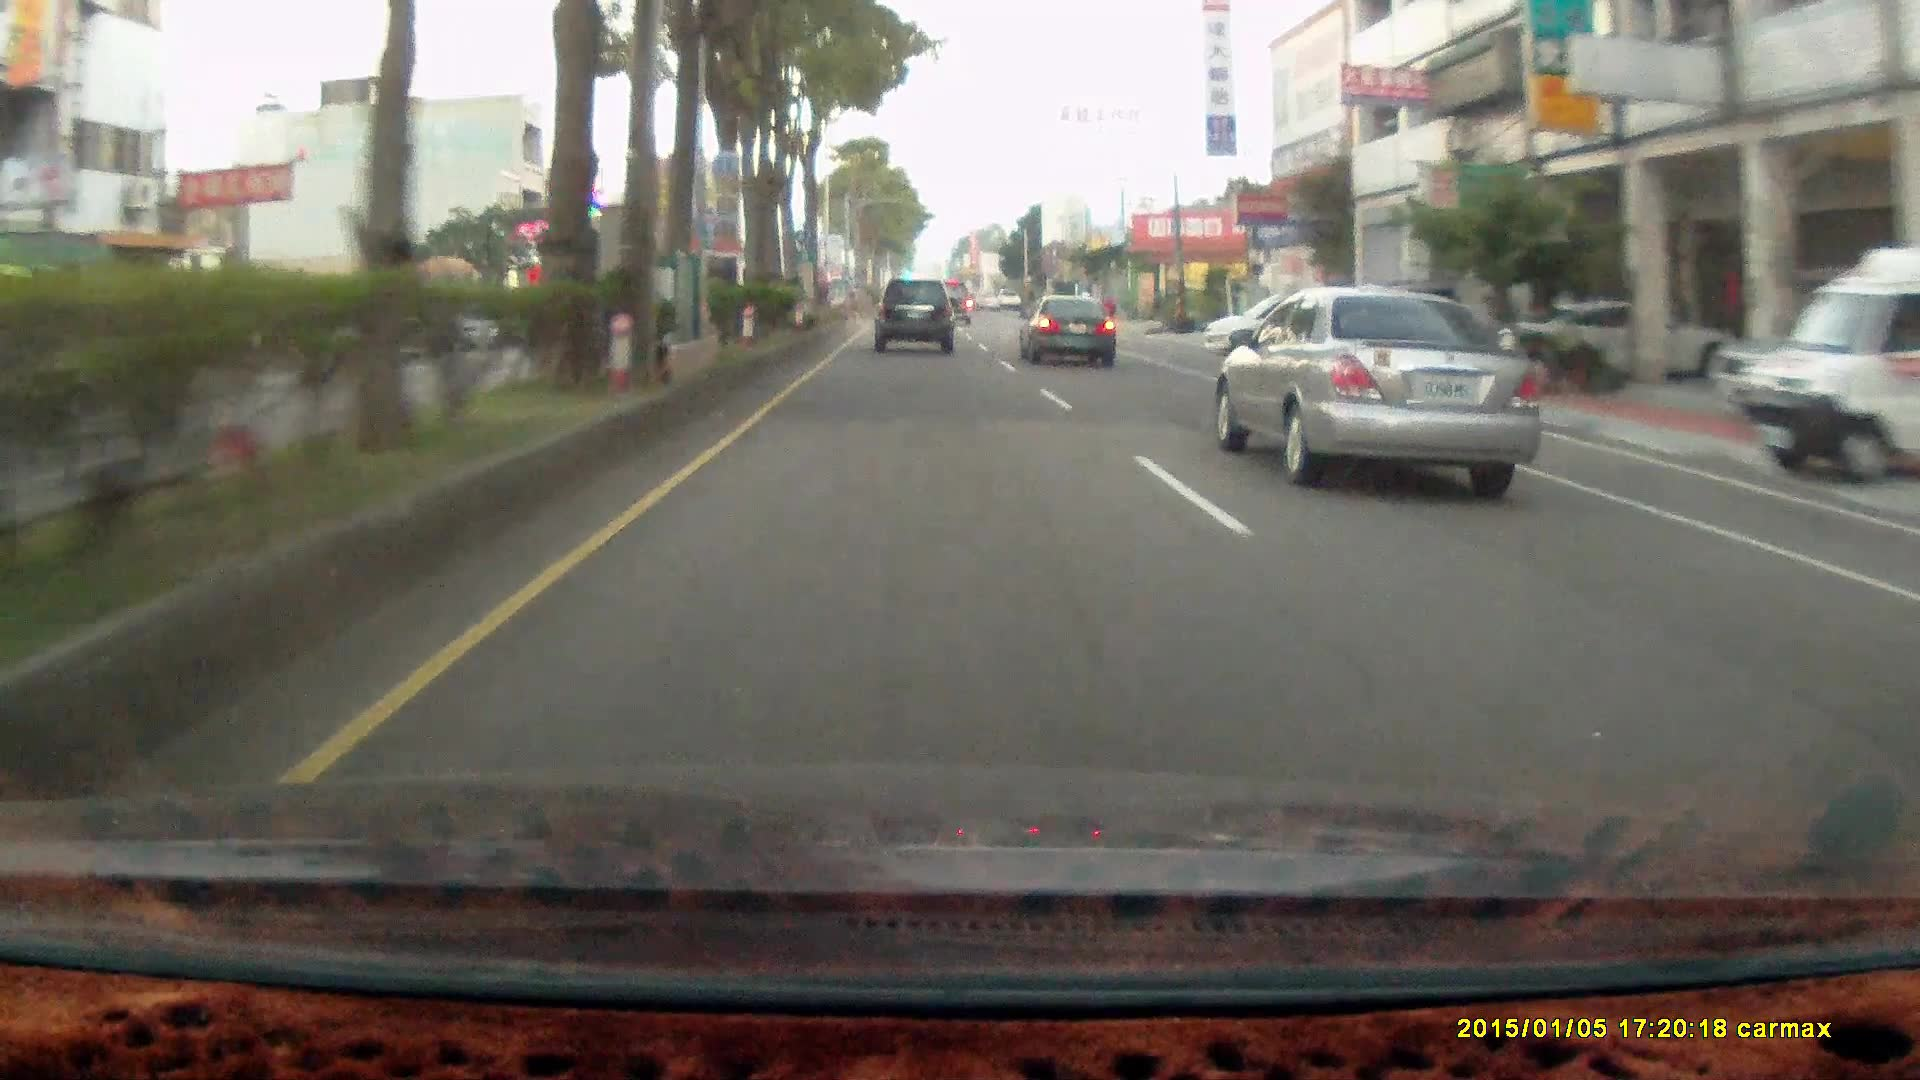vehicle: (1218, 291, 1545, 487), (1739, 251, 1920, 493), (1493, 303, 1745, 385), (1331, 284, 1499, 393), (1213, 301, 1375, 371), (1201, 291, 1360, 361), (1018, 294, 1121, 371), (1017, 294, 1116, 369), (873, 281, 957, 359), (873, 281, 953, 356)
